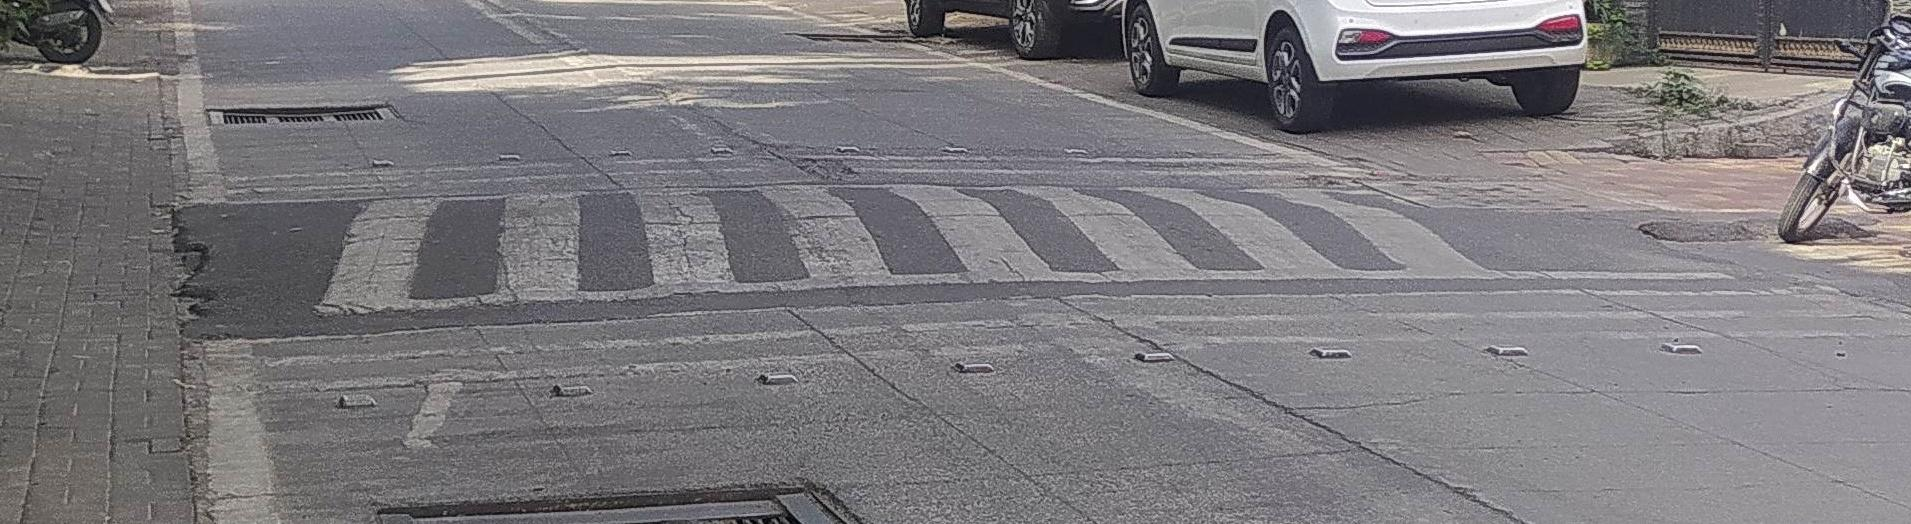speed-bump: (172, 178, 1762, 340)
